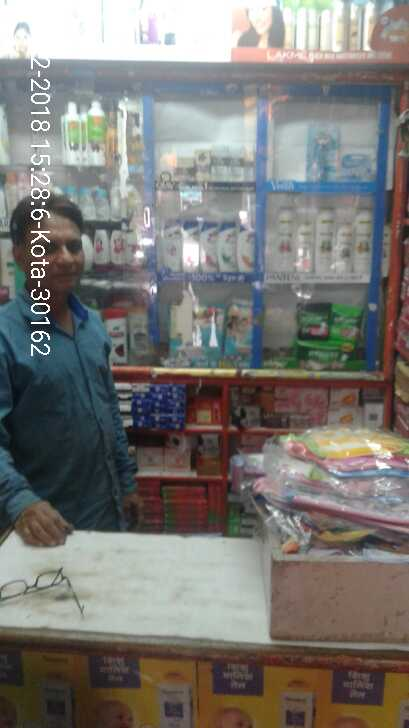venus: (306, 124, 343, 177), (343, 150, 373, 177)
